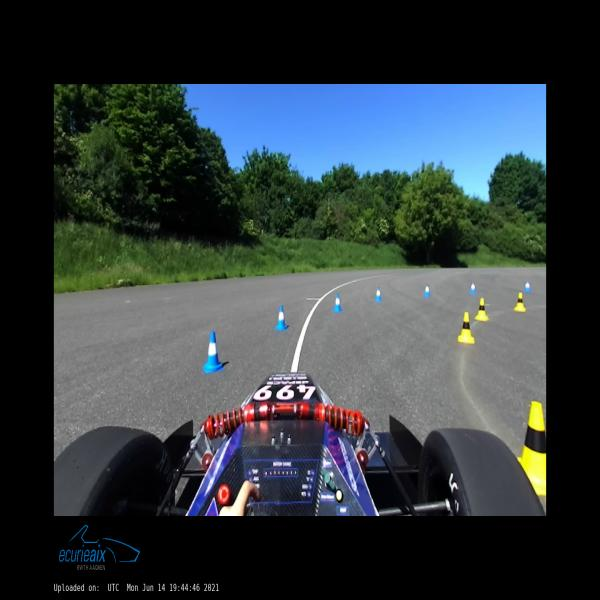blue_cone: (203, 331, 224, 373), (274, 306, 288, 331), (333, 294, 342, 312), (375, 288, 382, 302), (424, 284, 431, 296), (524, 281, 531, 292), (470, 282, 476, 293)
yellow_cone: (518, 401, 546, 497), (458, 312, 475, 344), (475, 298, 489, 322), (514, 293, 526, 311)
